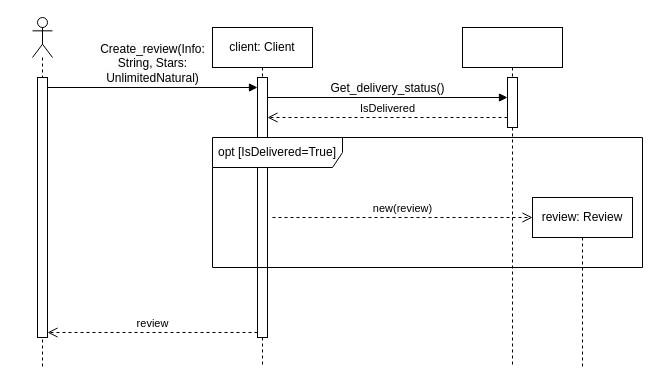
This 660x385 diagram has some shape labels left out. The shapes that lost their labels are listed below. From the top down, each one's box as (x1, y1, x2, y2) in pixels, then its label:
(32, 16, 52, 368): :user
(462, 26, 562, 368): order: Order
